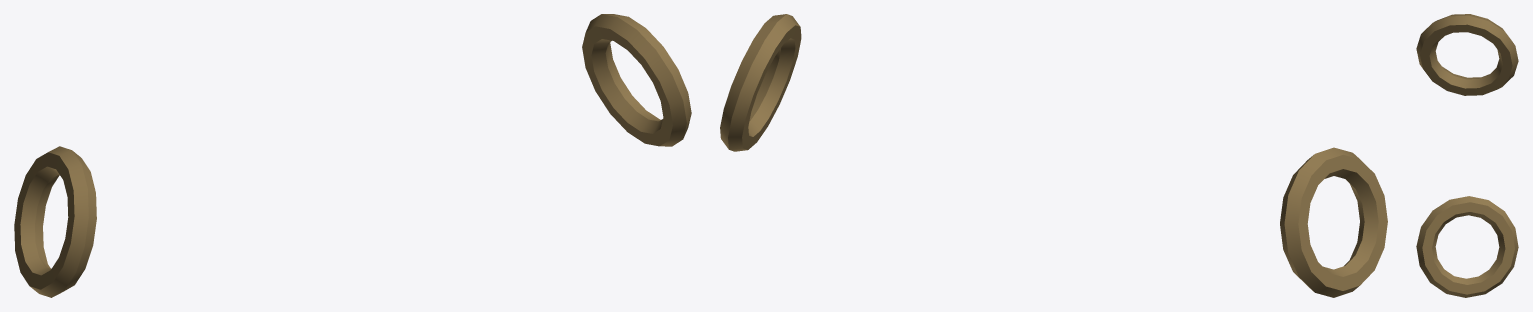
The model's file is Face_Earrings.fbx.
3 views of the same model, side by side, from view 1: azimuth 30°, elevation 25°; view 2: azimuth 150°, elevation 25°; view 3: azimuth 270°, elevation 25° (orthographic). The views are drawn at different scales.
Visible parts, largest first — view 1: Face_Earrings; view 2: Face_Earrings; view 3: Face_Earrings.
Boxes of the visible parts, x1,y1,x2,y2 form: Face_Earrings: [14, 14, 691, 297]; Face_Earrings: [720, 14, 1387, 297]; Face_Earrings: [1416, 14, 1518, 297].
Size of the model in its own units: 2.27 by 0.4528 by 0.4652.
